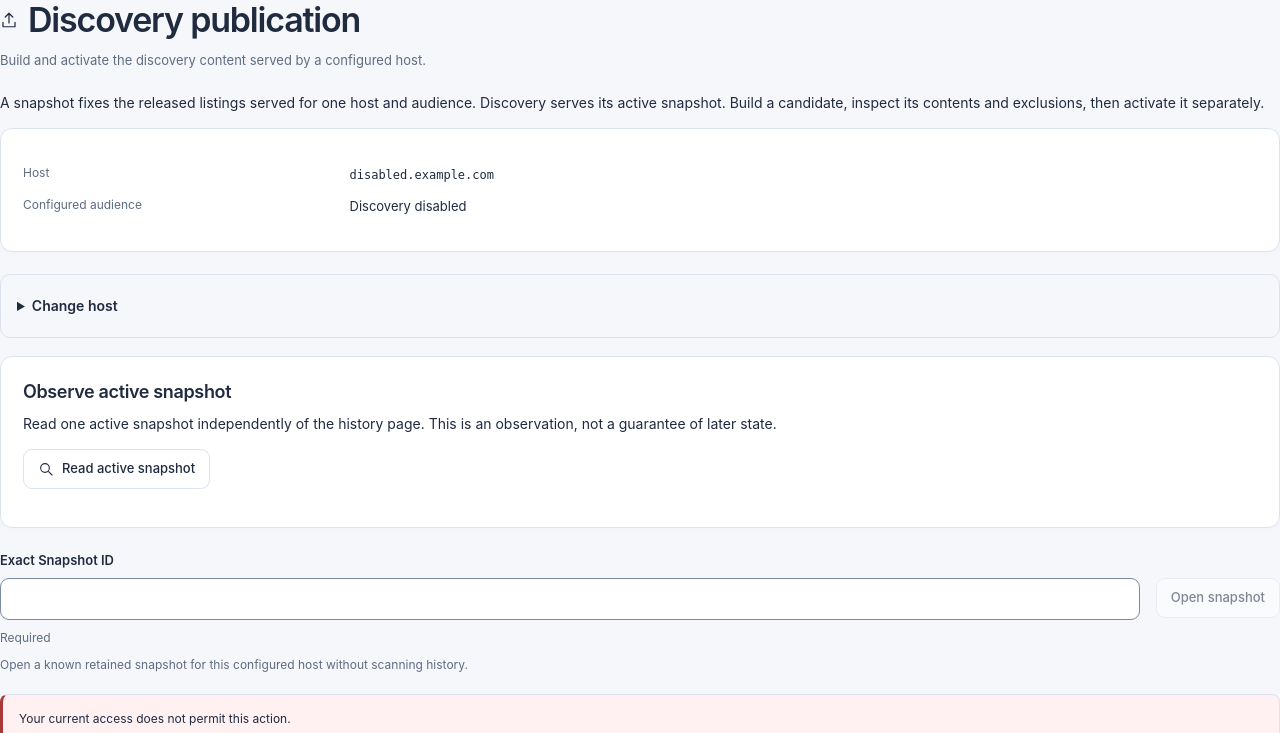
Test: keeps a disabled bookmarked publication host explicit while preserving the manual chooser after read refusal
Expected: the text "Discovery disabled" is shown, [350,198,466,214]
Expected: the element named "Selected publication host" shows "disabled.example.com", [350,168,494,182]
Click the heading "Change host".
click(75, 306)  # box [32,297,118,314]
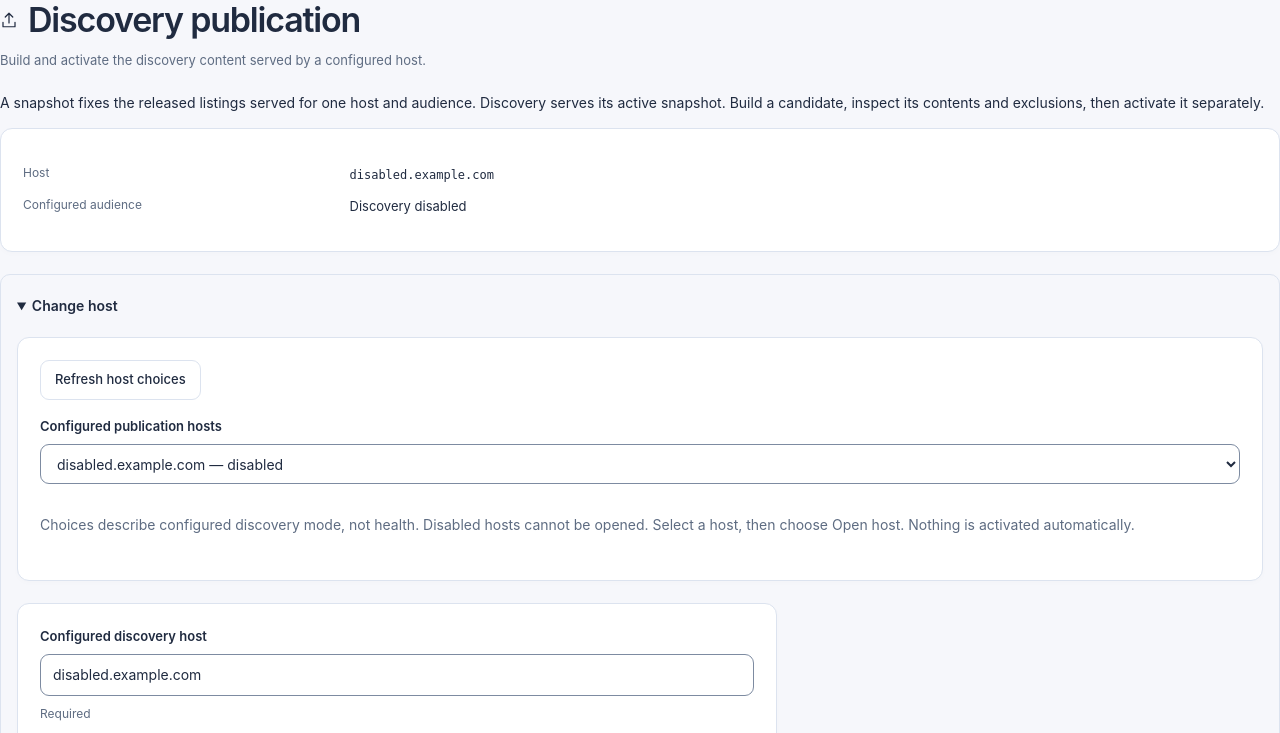
Expected: the field labelled "Configured discovery host" holds "disabled.example.com", [40,654,754,696]
